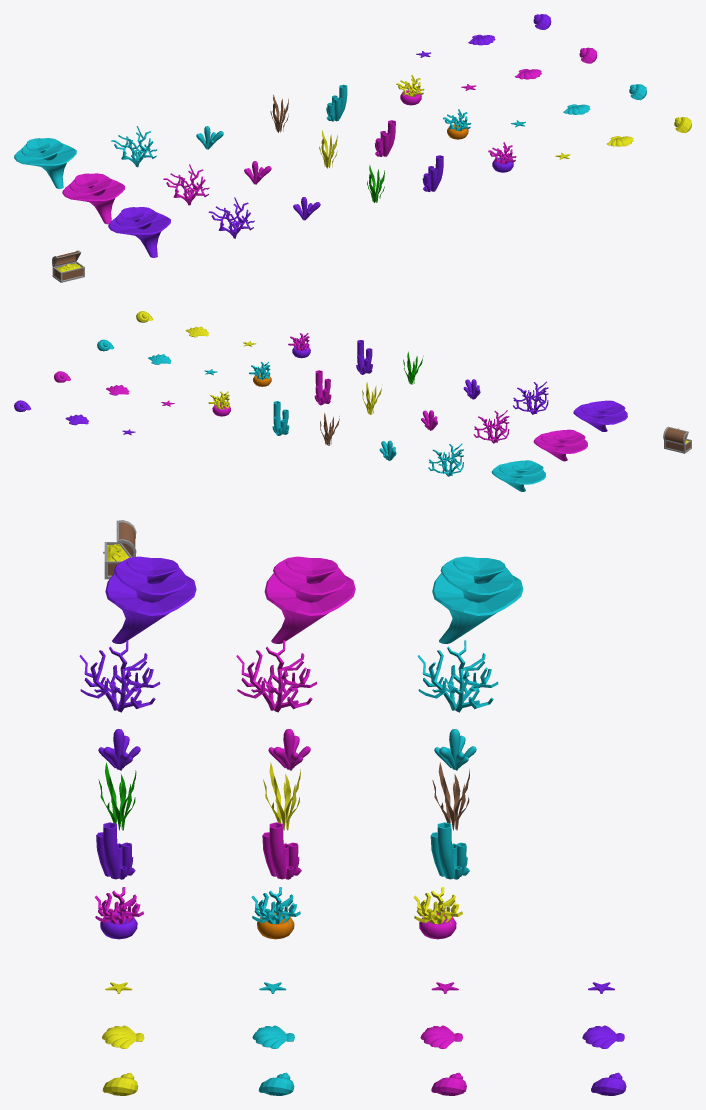
File: Decor.fbx
The picture shows the model from 3 angles, top to bottom: view 1: azimuth 30°, elevation 25°; view 2: azimuth 150°, elevation 25°; view 3: azimuth 270°, elevation 25°; orthographic projection. The views are drawn at different scales.
Visible parts, largest first — view 1: Decor_04_02, Decor_04, Decor_04_01, pCube1, Decor_01_02, Decor_01, Decor_01_01, Decor_05, Decor_05_01, Decor_05_02, Decor_02_02, Decor_02 (+1 smaller); view 2: Decor_04_02, Decor_04_01, Decor_04, pCube1, Decor_01_02, Decor_01_01, Decor_01, Decor_02_01, Decor_02_02, Decor_02, Decor_05_01, Decor_05_02 (+1 smaller); view 3: Decor_04, Decor_04_02, Decor_04_01, Decor_01_02, Decor_01, Decor_01_01, Decor_05_02, Decor_05, Decor_05_01, Decor_02_01, Decor_02_02, Decor_02 (+7 smaller).
Part boxes in pixels (x1=…): Decor_04_02: x1=14, y1=138, x2=76, y2=188; Decor_04: x1=108, y1=207, x2=170, y2=257; Decor_04_01: x1=62, y1=173, x2=125, y2=224; pCube1: x1=52, y1=250, x2=84, y2=282; Decor_01_02: x1=111, y1=126, x2=157, y2=167; Decor_01: x1=208, y1=197, x2=254, y2=238; Decor_01_01: x1=163, y1=164, x2=209, y2=205; Decor_05: x1=488, y1=142, x2=516, y2=172; Decor_05_01: x1=443, y1=109, x2=471, y2=139; Decor_05_02: x1=396, y1=75, x2=424, y2=105; Decor_02_02: x1=326, y1=84, x2=347, y2=121; Decor_02: x1=422, y1=155, x2=443, y2=191; Decor_04_02: x1=491, y1=460, x2=545, y2=491; Decor_04_01: x1=533, y1=429, x2=587, y2=461; Decor_04: x1=573, y1=400, x2=627, y2=431; pCube1: x1=663, y1=426, x2=691, y2=453; Decor_01_02: x1=428, y1=443, x2=463, y2=476; Decor_01_01: x1=473, y1=410, x2=509, y2=443; Decor_01: x1=513, y1=381, x2=548, y2=414; Decor_02_01: x1=314, y1=370, x2=331, y2=405; Decor_02_02: x1=272, y1=401, x2=289, y2=435; Decor_02: x1=356, y1=340, x2=372, y2=374; Decor_05_01: x1=249, y1=361, x2=271, y2=386; Decor_05_02: x1=208, y1=391, x2=230, y2=416; Decor_04: x1=105, y1=556, x2=196, y2=643; Decor_04_02: x1=432, y1=556, x2=523, y2=643; Decor_04_01: x1=264, y1=556, x2=355, y2=643; Decor_01_02: x1=417, y1=640, x2=498, y2=712; Decor_01: x1=79, y1=640, x2=160, y2=712; Decor_01_01: x1=236, y1=640, x2=316, y2=712; Decor_05_02: x1=413, y1=887, x2=462, y2=939; Decor_05: x1=95, y1=887, x2=143, y2=939; Decor_05_01: x1=251, y1=887, x2=300, y2=939; Decor_02_01: x1=262, y1=822, x2=301, y2=879; Decor_02_02: x1=430, y1=822, x2=469, y2=879; Decor_02: x1=96, y1=822, x2=135, y2=879.
Size of the model in its own units: 2472 by 154 by 1064.
1 material, 1 textured.
